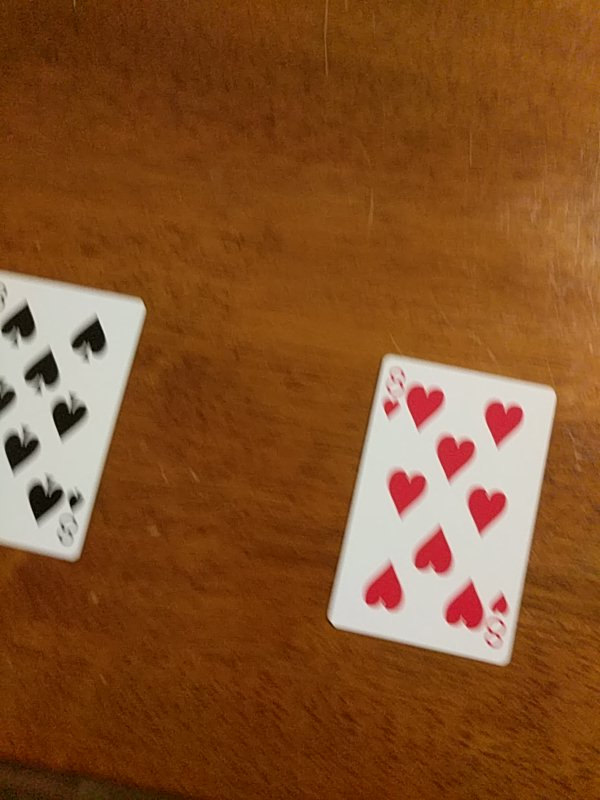Hearts: (325, 352, 558, 667)
Spades: (1, 266, 149, 565)
